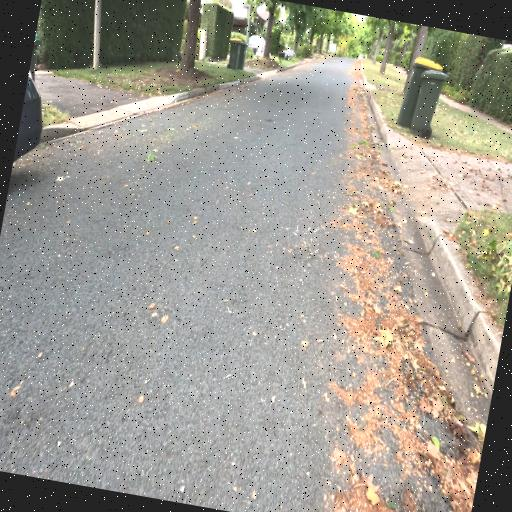kerb_cut: (377, 145, 462, 227)
